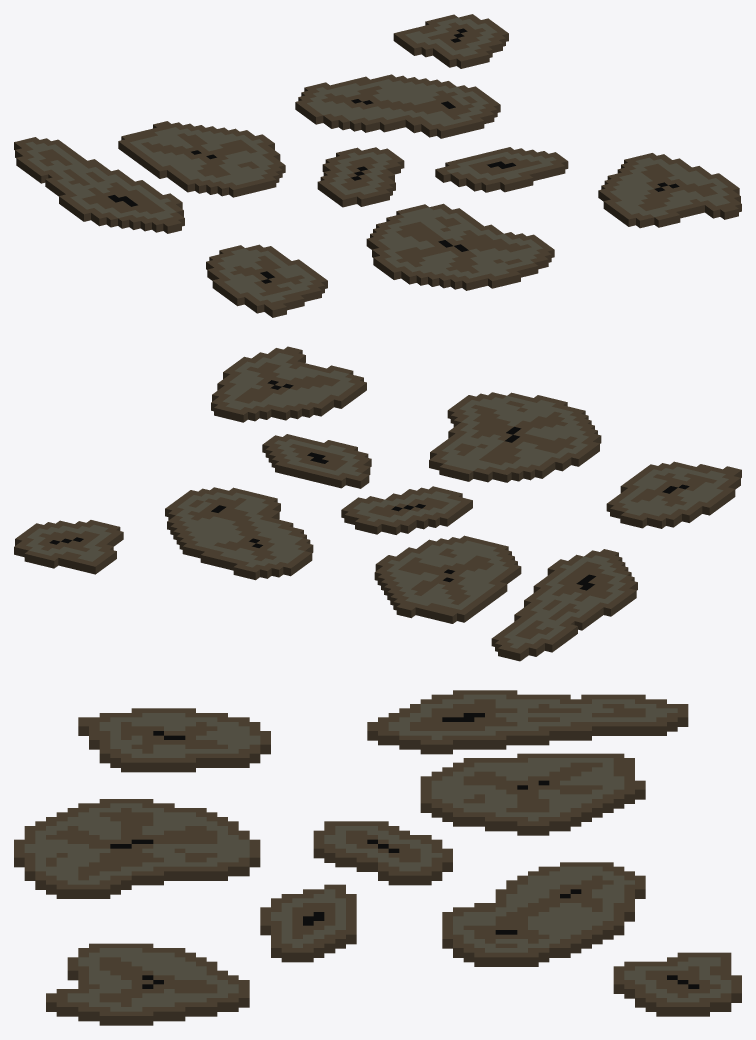
Rendered from ground_hole_5.obj.
3 renders of one model, top to bottom at view 1: azimuth 30°, elevation 25°; view 2: azimuth 150°, elevation 25°; view 3: azimuth 270°, elevation 25°, orthographic. The views are drawn at different scales.
Bounding box in the file's own units: 7.2 × 0.1 × 6.8.
Materials: 1 (1 with a texture image).
